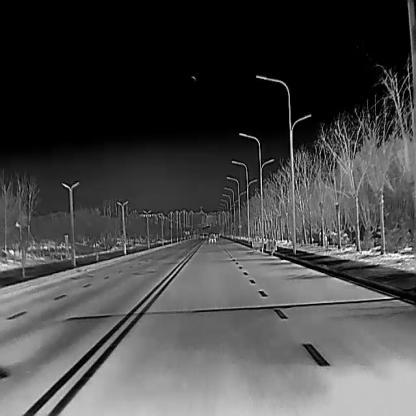car: (208, 231, 217, 242)
